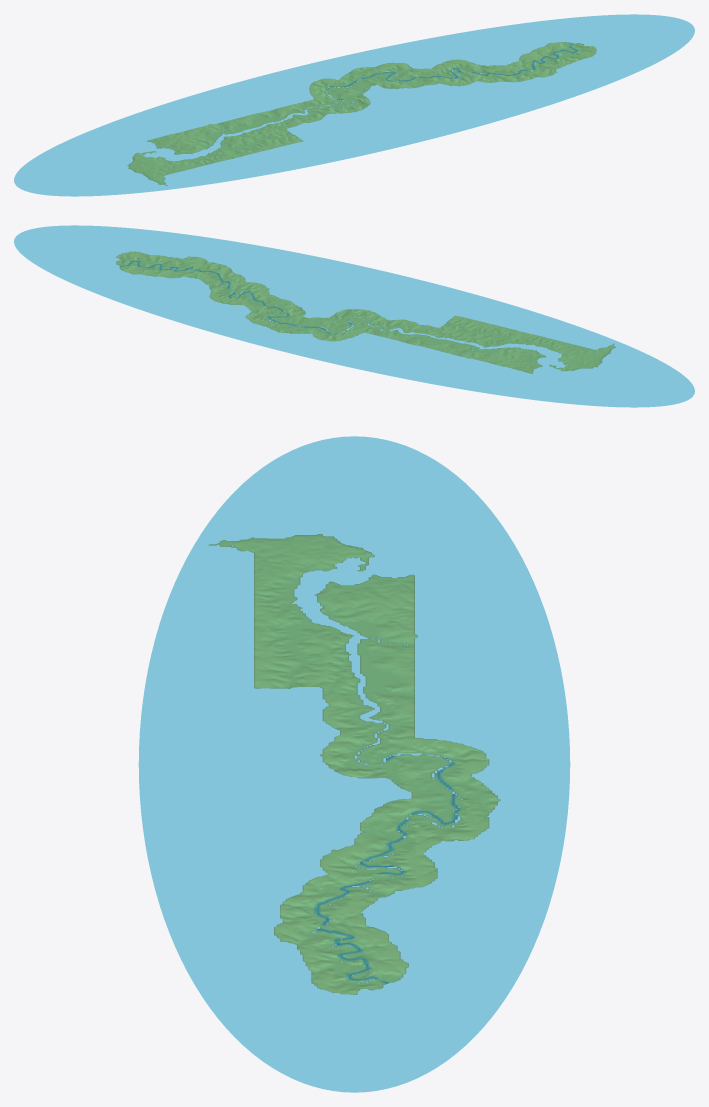
Rendered from GMB-terrain.glb.
3 views of the same model, one above another, from view 1: azimuth 30°, elevation 25°; view 2: azimuth 150°, elevation 25°; view 3: azimuth 270°, elevation 25° (orthographic). The views are drawn at different scales.
Parts seen in each view (by area): view 1: Relevo com hidrografia; view 2: Relevo com hidrografia; view 3: Relevo com hidrografia.
Part boxes in pixels (x1,y1,x2,y2): Relevo com hidrografia: [14, 14, 694, 196]; Relevo com hidrografia: [14, 225, 694, 407]; Relevo com hidrografia: [138, 436, 570, 1092].
Bounding box in the file's own units: 2.28 × 0.00583 × 0.6343.
2 materials, 1 textured.
